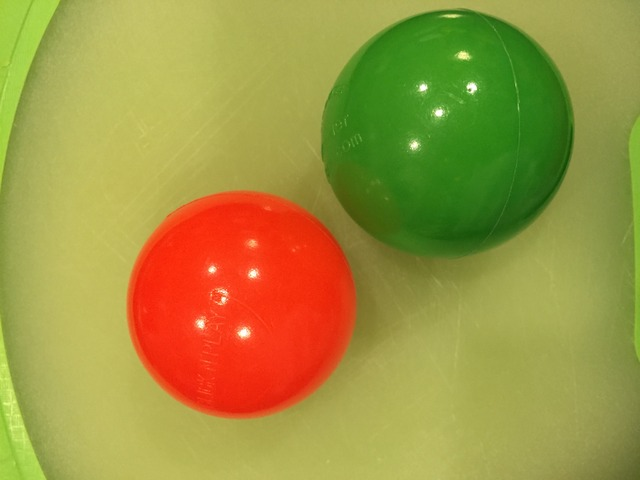Ball: (124, 190, 355, 418)
